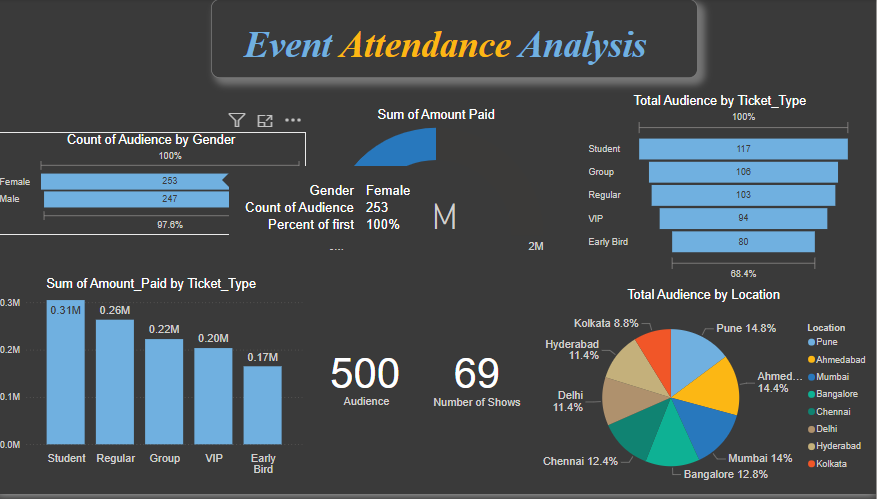

The page's visual inventory and layout, read from the dashboard file:
{"tool":"powerbi","page":{"name":"Page 1","canvas":[1280,720],"ordinal":0},"visuals":[{"type":"pieChart","fields":{"Category":["Large_Event_Attendance_Data.Location"],"Y":["Large_Event_Attendance_Data.Name"]},"box":[777.8,419.3,501.7,300.7],"z":0},{"type":"gauge","fields":{"Y":["Large_Event_Attendance_Data.Amount_Paid"]},"box":[478.5,156.9,323.1,223.1],"z":1000},{"type":"card","fields":{"Values":["Large_Event_Attendance_Data.No_Show"]},"box":[623.1,473.8,153.8,149.2],"z":2000},{"type":"card","fields":{"Values":["Large_Event_Attendance_Data.Name"]},"box":[451.1,474.2,172,147.5],"z":3000},{"type":"funnel","fields":{"Category":["Large_Event_Attendance_Data.Ticket_Type"],"Y":["Large_Event_Attendance_Data.Registration_ID"]},"box":[856.9,136.9,392.3,276.9],"z":4000},{"type":"textbox","box":[312.3,0,707.7,115.4],"z":5000},{"type":"funnel","fields":{"Y":["Large_Event_Attendance_Data.Registration_ID"],"Category":["Large_Event_Attendance_Data.Gender"]},"box":[0,193.8,450.8,149.2],"z":6000},{"type":"columnChart","fields":{"Category":["Large_Event_Attendance_Data.Ticket_Type"],"Y":["Large_Event_Attendance_Data.Amount_Paid"]},"box":[0,403.4,451.1,297.8],"z":7000}]}

Visuals, with their boxes in screenshot pixels (x1, y1, x2, y2), scaled from the page's 1280x720 canvas onto the 877x499 screenshot:
pieChart - Large_Event_Attendance_Data.Location x Large_Event_Attendance_Data.Name: rect(533, 291, 876, 498)
gauge - Large_Event_Attendance_Data.Amount_Paid: rect(328, 109, 549, 263)
card - Large_Event_Attendance_Data.No_Show: rect(427, 328, 532, 432)
card - Large_Event_Attendance_Data.Name: rect(309, 329, 427, 431)
funnel - Large_Event_Attendance_Data.Ticket_Type x Large_Event_Attendance_Data.Registration_ID: rect(587, 95, 856, 287)
textbox: rect(214, 0, 699, 80)
funnel - Large_Event_Attendance_Data.Registration_ID x Large_Event_Attendance_Data.Gender: rect(0, 134, 309, 238)
columnChart - Large_Event_Attendance_Data.Ticket_Type x Large_Event_Attendance_Data.Amount_Paid: rect(0, 280, 309, 486)
